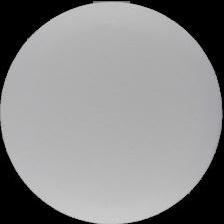61919-990: (0, 0, 224, 224)
